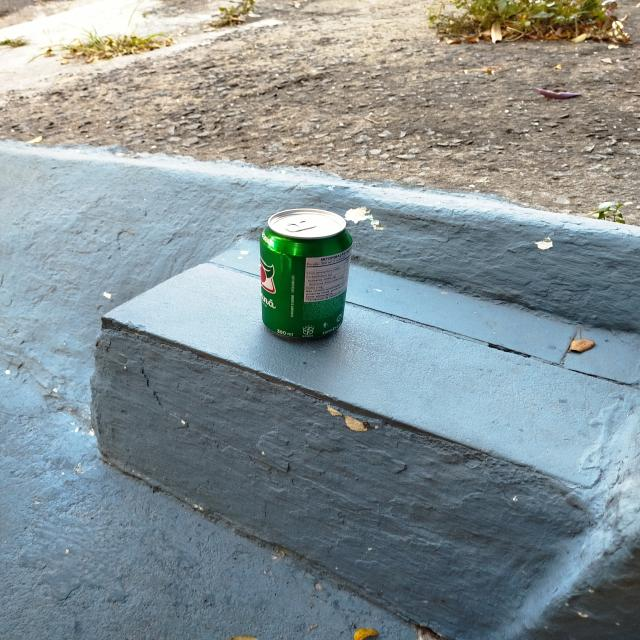Guarana: (258, 202, 352, 343)
